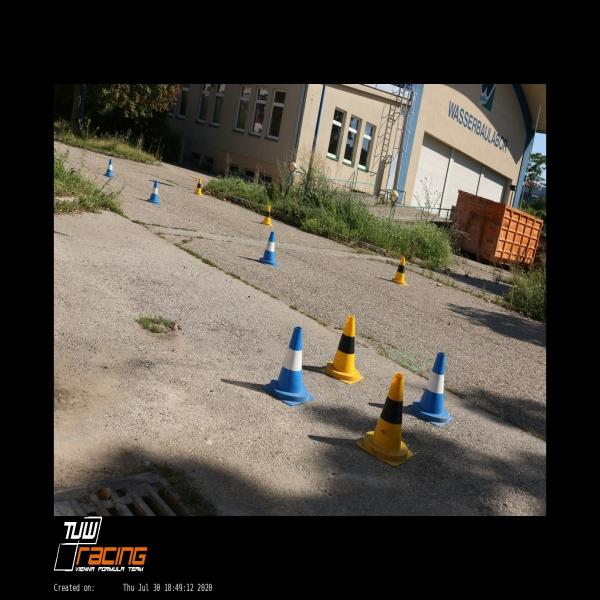blue_cone: (263, 326, 314, 406), (407, 352, 453, 427), (259, 232, 280, 265), (147, 180, 161, 204), (104, 159, 115, 178)
yellow_cone: (357, 373, 414, 466), (322, 315, 364, 384), (392, 257, 408, 286), (261, 205, 272, 226), (194, 179, 203, 196)
